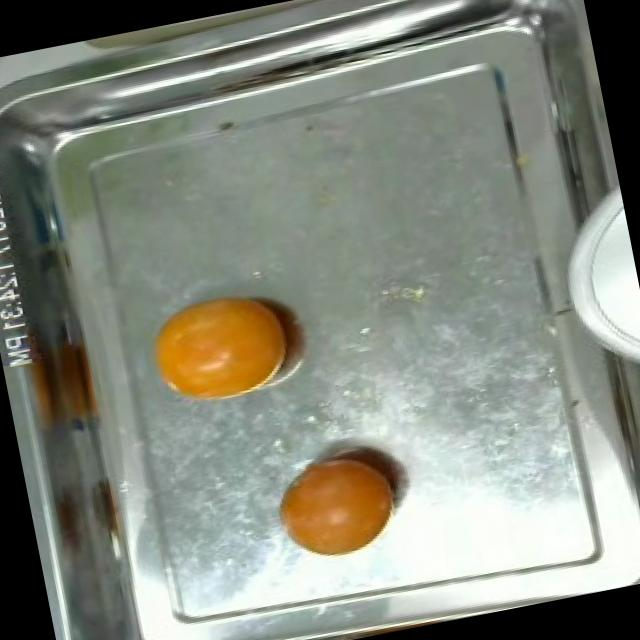Fruit: (134, 274, 308, 413), (262, 432, 416, 570)
